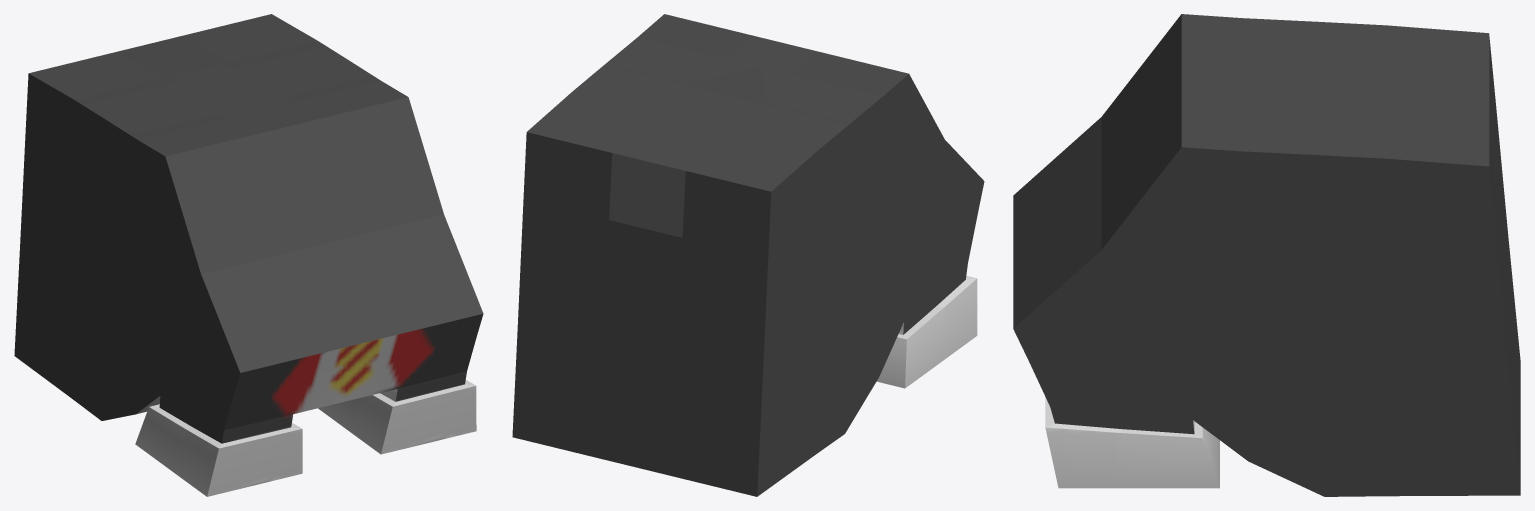
File: wizard_Costume.fbx
3 renders of one model, left to right at view 1: azimuth 30°, elevation 25°; view 2: azimuth 150°, elevation 25°; view 3: azimuth 270°, elevation 25°, orthographic. The views are drawn at different scales.
Parts seen in each view (by area): view 1: wizard_Costume; view 2: wizard_Costume; view 3: wizard_Costume.
Part boxes in pixels (x1,y1,x2,y2): wizard_Costume: [14, 14, 483, 496]; wizard_Costume: [512, 14, 984, 496]; wizard_Costume: [1013, 14, 1520, 496].
Size of the model in its own units: 186 by 206 by 270.
